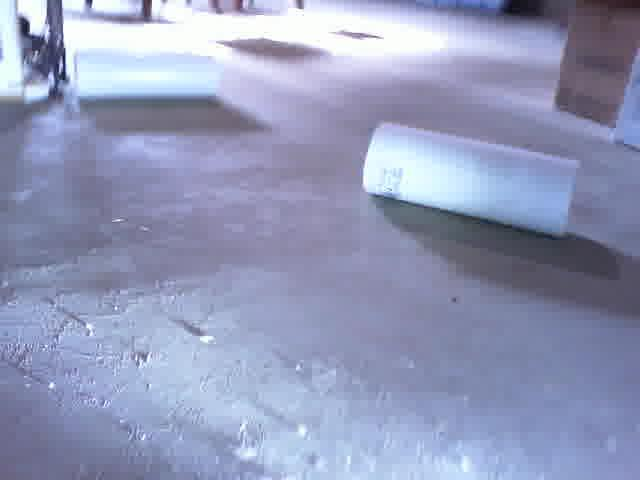coral: (363, 122, 580, 238), (75, 44, 222, 101)
